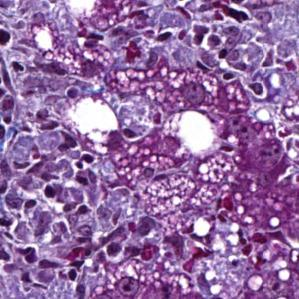ballooning: (67, 93, 122, 146), (166, 109, 220, 162)
